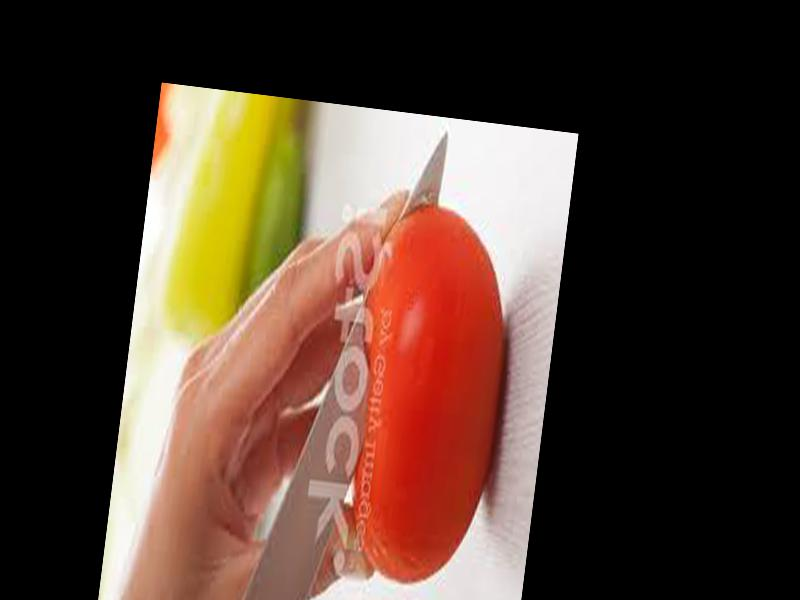Tomato: (333, 199, 525, 596)
